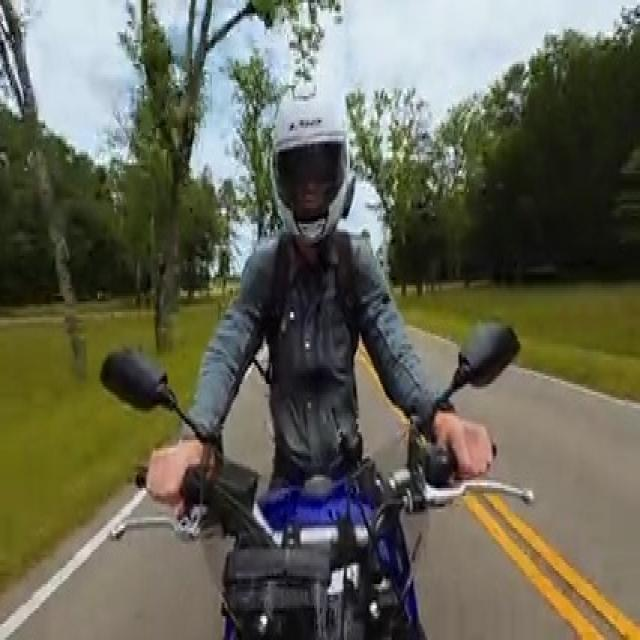Helmet_Wearer: (262, 80, 358, 242)
Person: (142, 83, 492, 507)
